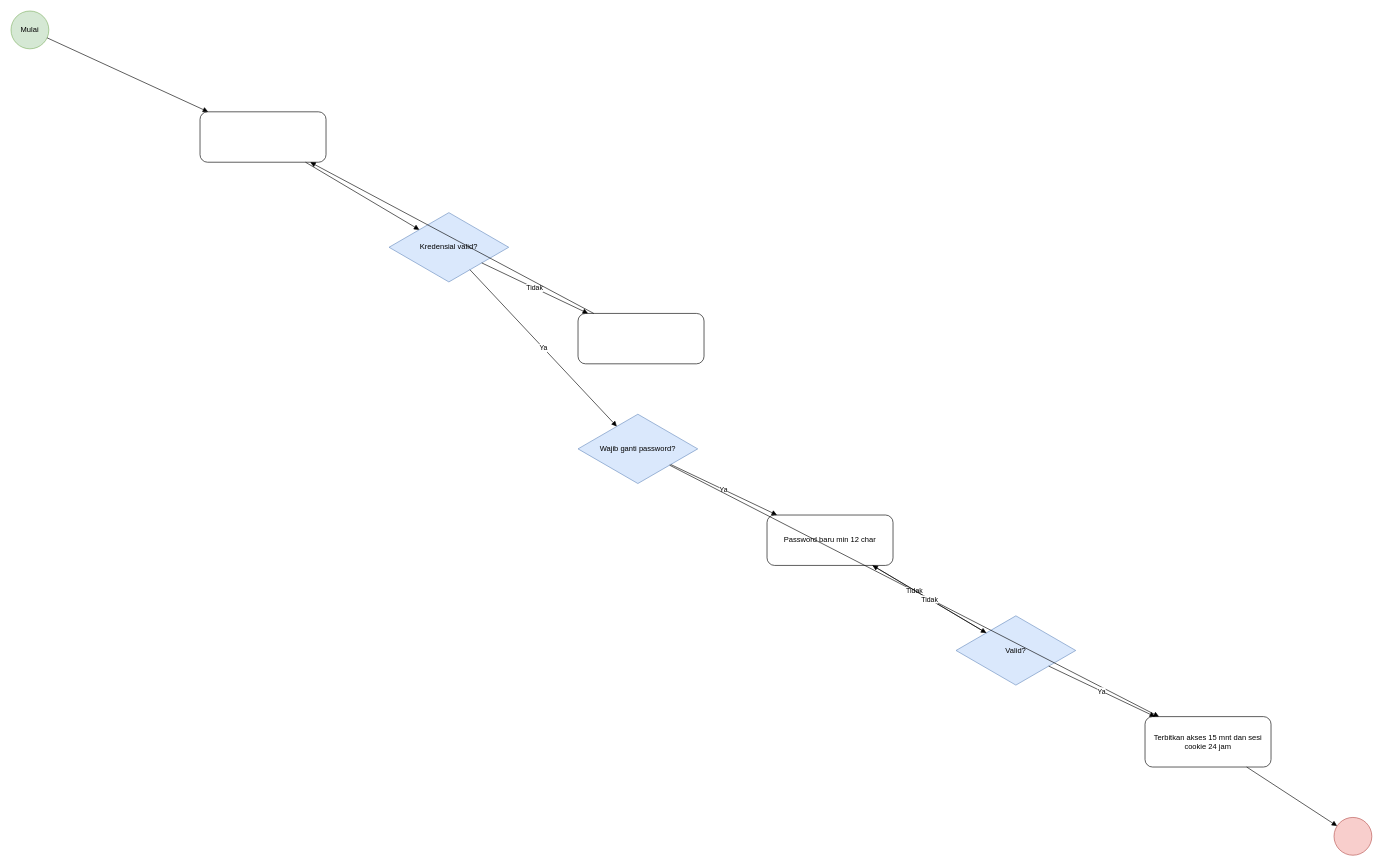
This 1383x866 diagram has some shape labels left out. Here are the shapes that lost their labels. From the top down, the box of each, then its label:
(199, 111, 326, 162): Input email dan password
(577, 313, 704, 364): Gagal: pesan umum tanpa bocorkan akun
(1333, 817, 1372, 855): Masuk dashboard sesuai role
